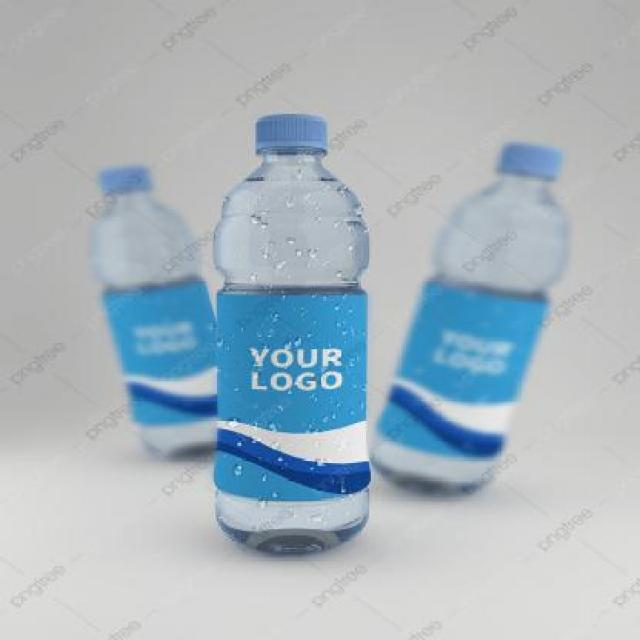bottle: (202, 93, 380, 590)
